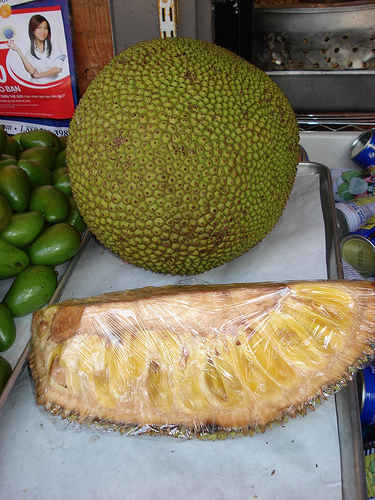jackfruit: (26, 278, 373, 442), (63, 36, 298, 276)
